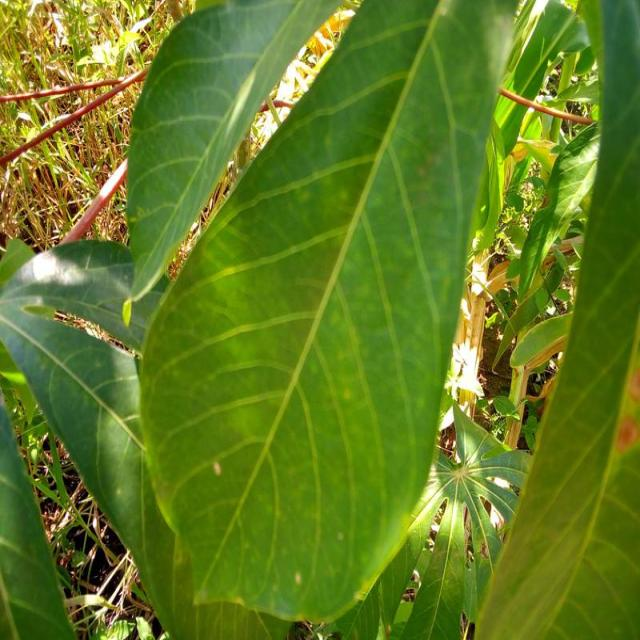cassava leaf: (134, 0, 520, 626), (0, 235, 291, 638), (123, 0, 347, 313)
